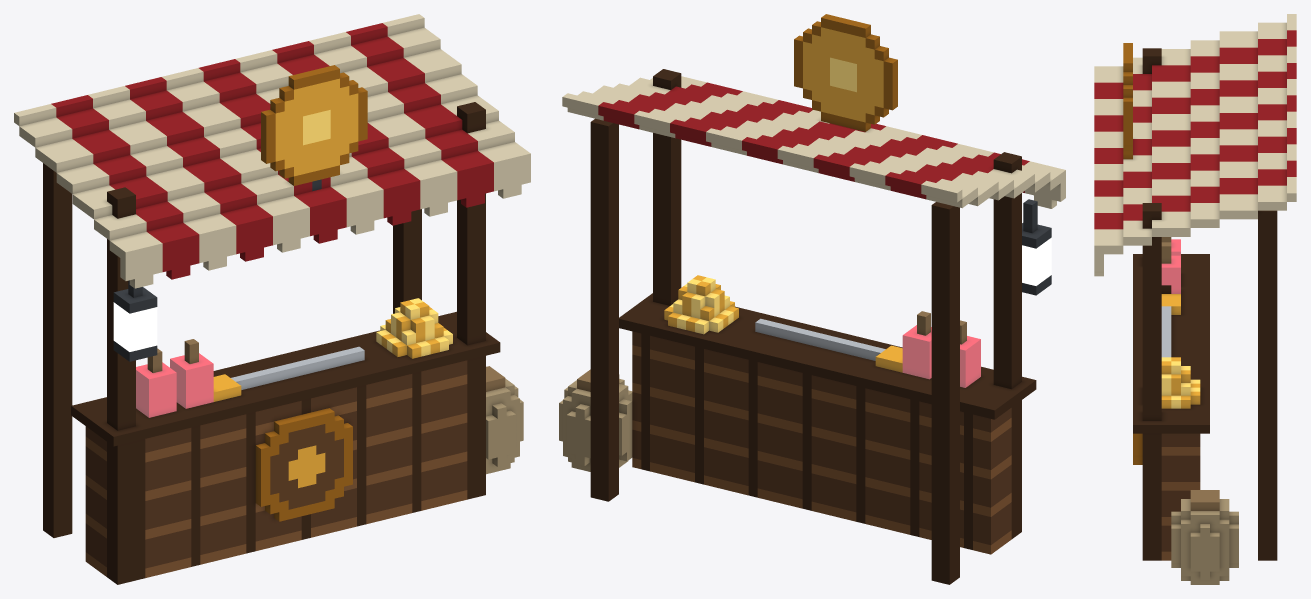
Rendered from stall.glb.
3 views of the same model, side by side, from view 1: azimuth 30°, elevation 25°; view 2: azimuth 150°, elevation 25°; view 3: azimuth 270°, elevation 25° (orthographic). The views are drawn at different scales.
Visible parts, largest first — view 1: stall_body; view 2: stall_body; view 3: stall_body.
Boxes of the visible parts, x1,y1,x2,y2 form: stall_body: (14, 14, 530, 584); stall_body: (559, 14, 1065, 584); stall_body: (1094, 14, 1296, 584).
Size of the model in its own units: 3.06 by 3.06 by 1.31.
Materials: 1 (1 with a texture image).
